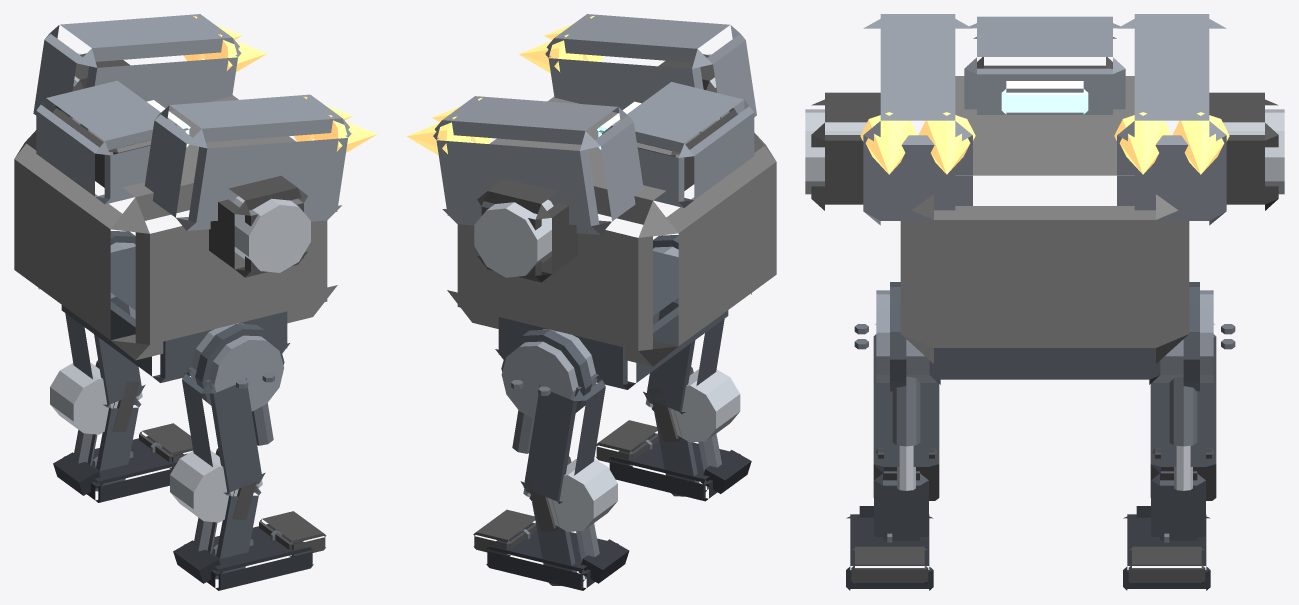
File: rocket.glb
3 views of the same model, side by side, from view 1: azimuth 30°, elevation 25°; view 2: azimuth 150°, elevation 25°; view 3: azimuth 270°, elevation 25° (orthographic). The views are drawn at different scales.
Parts seen in each view (by area): view 1: body, turret; view 2: body, turret; view 3: body, turret.
Boxes of the visible parts, <box> form: body: <box>14,53,337,590</box>; turret: <box>33,14,377,230</box>; body: <box>447,54,776,590</box>; turret: <box>407,14,756,234</box>; body: <box>805,16,1284,590</box>; turret: <box>860,14,1229,225</box>.
Bounding box in the file's own units: 11.43 × 20.28 × 16.6.
